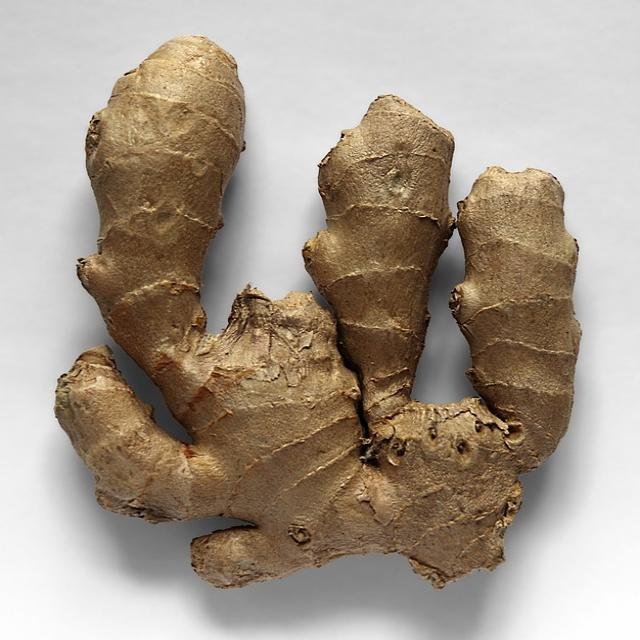ginger-root: (29, 18, 591, 602)
